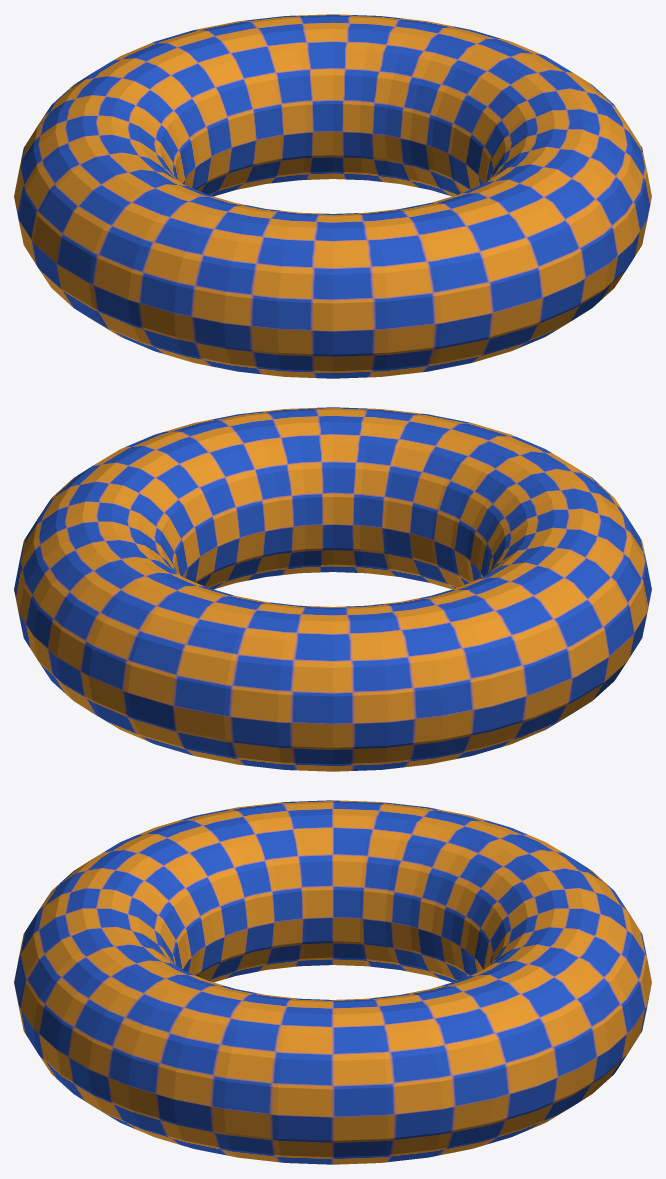
Rendered from tore_texture.obj.
The picture shows the model from 3 angles, top to bottom: view 1: azimuth 30°, elevation 25°; view 2: azimuth 150°, elevation 25°; view 3: azimuth 270°, elevation 25°; orthographic projection.
Bounding box in the file's own units: 54 × 13.79 × 54.
Materials: 1 (1 with a texture image).
